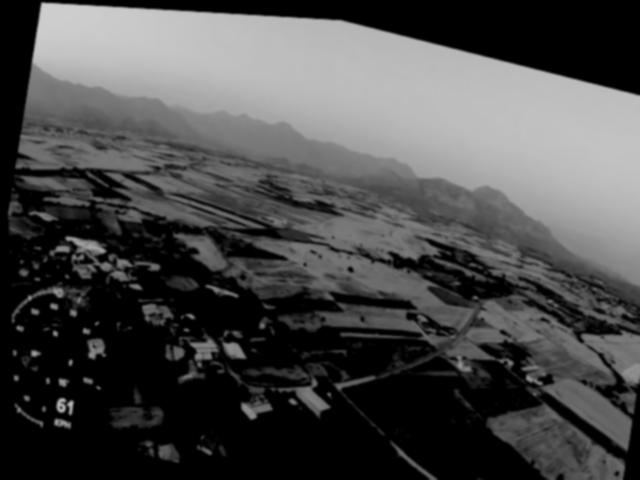hedef: (195, 271, 246, 309)
